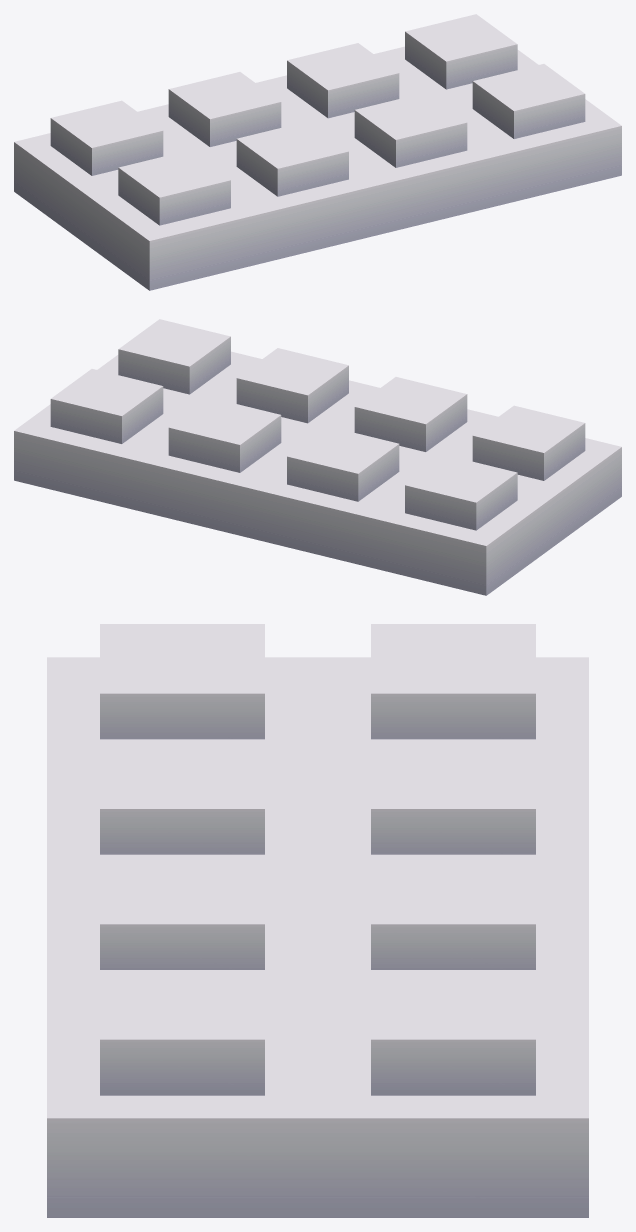
File: square-lq-plate-2x4.glb
3 renders of one model, top to bottom at view 1: azimuth 30°, elevation 25°; view 2: azimuth 150°, elevation 25°; view 3: azimuth 270°, elevation 25°, orthographic. The views are drawn at different scales.
Visible parts, largest first — view 1: square-lq-plate-2x4; view 2: square-lq-plate-2x4; view 3: square-lq-plate-2x4.
Part boxes in pixels (x1=…): square-lq-plate-2x4: x1=14, y1=14, x2=621, y2=290; square-lq-plate-2x4: x1=14, y1=319, x2=621, y2=595; square-lq-plate-2x4: x1=47, y1=624, x2=588, y2=1217.
Size of the model in its own units: 0.318 by 0.05 by 0.158.
1 material, 1 textured.
